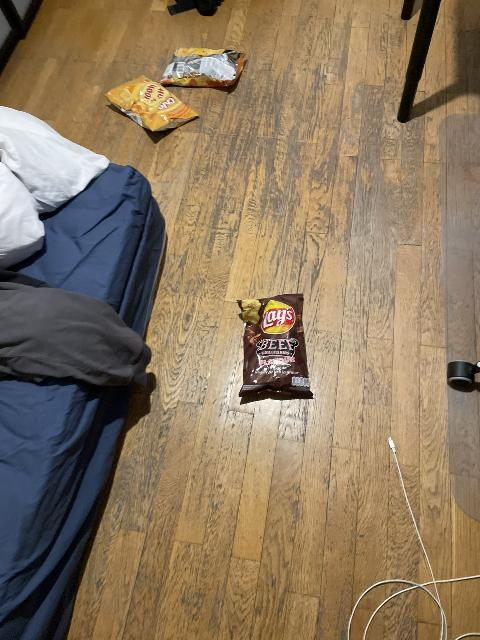Chio Cascaval 125g: (160, 47, 247, 88)
Chio Hula Hoops Cheese 70g: (104, 76, 201, 132)
Lays Beef Grilled Ribs 125g: (236, 293, 314, 398)
